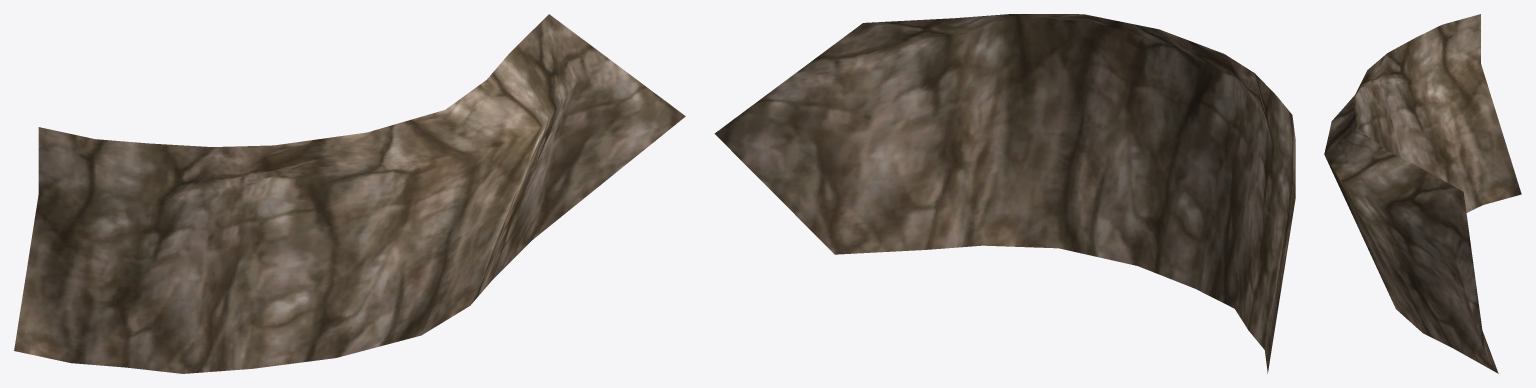
The model's file is OVERHILL_A_01_OBJECT157.fbx.
3 views of the same model, side by side, from view 1: azimuth 30°, elevation 25°; view 2: azimuth 150°, elevation 25°; view 3: azimuth 270°, elevation 25° (orthographic). The views are drawn at different scales.
Visible parts, largest first — view 1: OVERHILL_A_01_OBJECT157; view 2: OVERHILL_A_01_OBJECT157; view 3: OVERHILL_A_01_OBJECT157.
Part boxes in pixels (<box>): OVERHILL_A_01_OBJECT157: <box>14,14,685,373</box>; OVERHILL_A_01_OBJECT157: <box>714,14,1295,373</box>; OVERHILL_A_01_OBJECT157: <box>1324,14,1521,373</box>.
Size of the model in its own units: 91479 by 32937 by 32880.
Materials: 1 (1 with a texture image).
